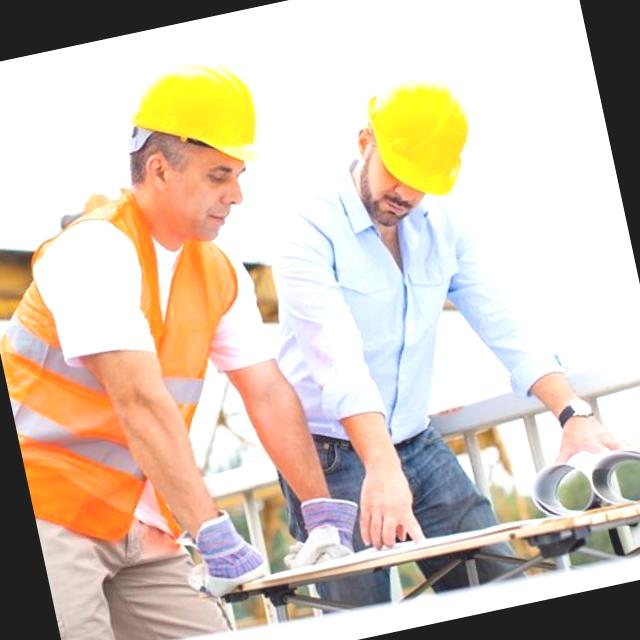helmet: (118, 36, 276, 197), (356, 68, 482, 212)
no-vest: (259, 166, 508, 482)
vest: (0, 180, 268, 562)
